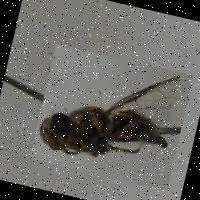Oriental-fruit-fly: (28, 42, 192, 189)
